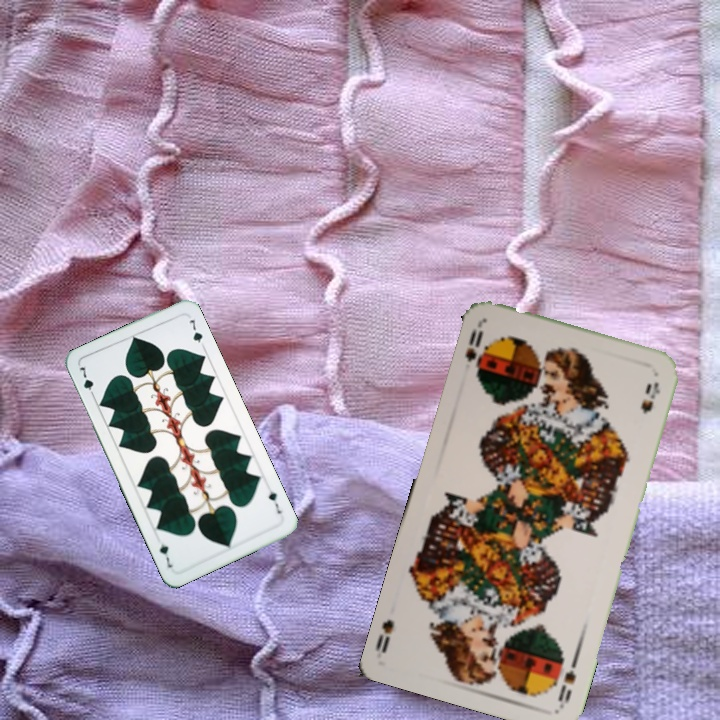G7: (76, 361, 98, 401), (264, 483, 284, 516)
SO: (461, 320, 488, 380), (554, 651, 581, 709)
